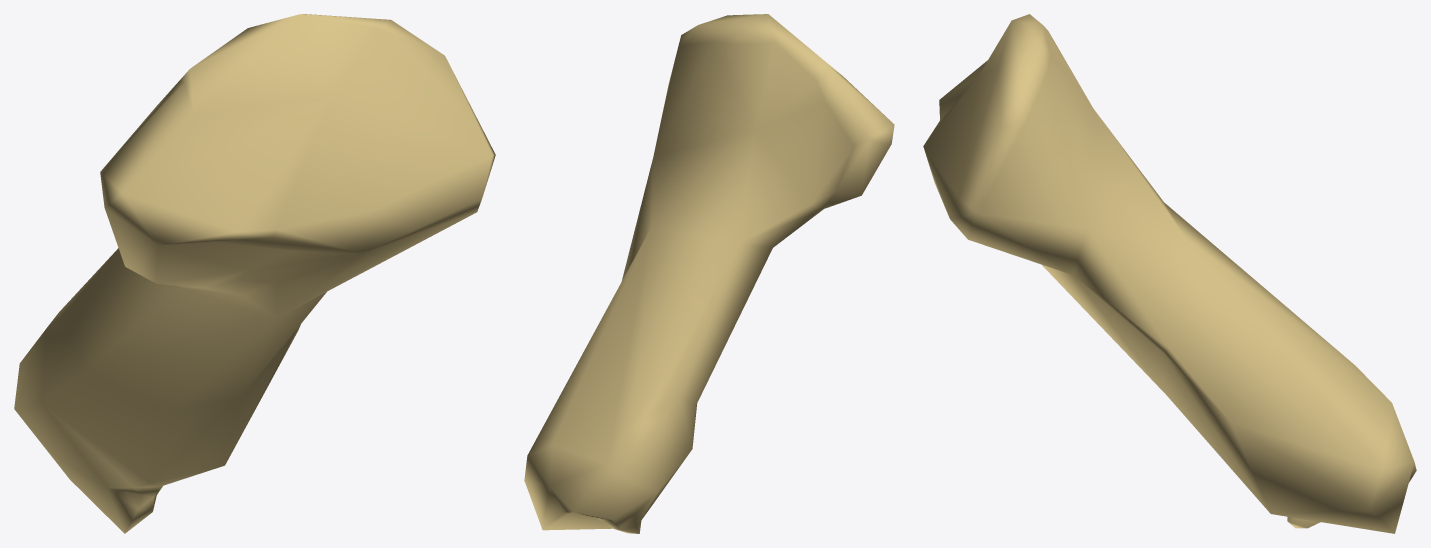
3 renders of one model, left to right at view 1: azimuth 30°, elevation 25°; view 2: azimuth 150°, elevation 25°; view 3: azimuth 270°, elevation 25°, orthographic. The views are drawn at different scales.
Visible parts, largest first — view 1: 右侧第五指远节指骨; view 2: 右侧第五指远节指骨; view 3: 右侧第五指远节指骨.
Part boxes in pixels (x1,y1,x2,y2): 右侧第五指远节指骨: (14,14,495,533); 右侧第五指远节指骨: (524,14,894,533); 右侧第五指远节指骨: (923,14,1416,533).
Bounding box in the file's own units: 0.0126 × 0.0218 × 0.0194.
